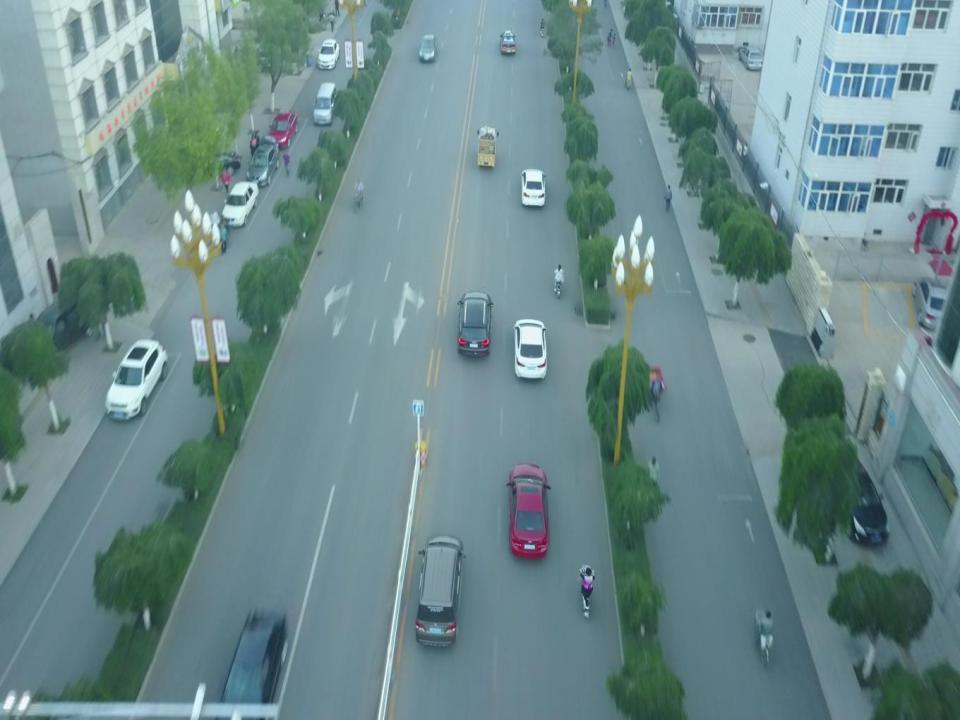car: (214, 608, 289, 720), (829, 448, 890, 545), (415, 534, 466, 646), (104, 340, 168, 422), (506, 463, 551, 559), (458, 291, 494, 357), (912, 277, 952, 329), (513, 319, 547, 378), (221, 182, 258, 228), (245, 136, 278, 187), (267, 111, 298, 150), (199, 151, 240, 177), (521, 169, 546, 207), (317, 38, 339, 68), (738, 45, 763, 70), (419, 35, 437, 62), (499, 30, 517, 54)
truck: (476, 125, 498, 169)
van: (26, 294, 95, 356), (312, 82, 337, 125)
